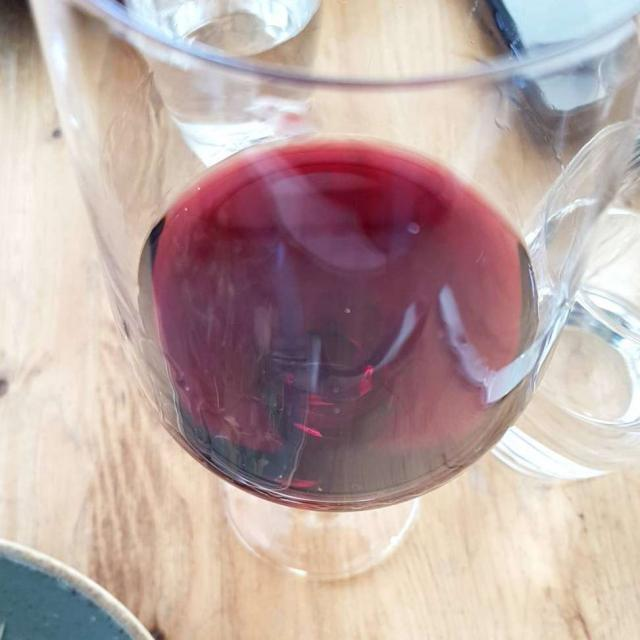wine: (169, 149, 527, 494)
